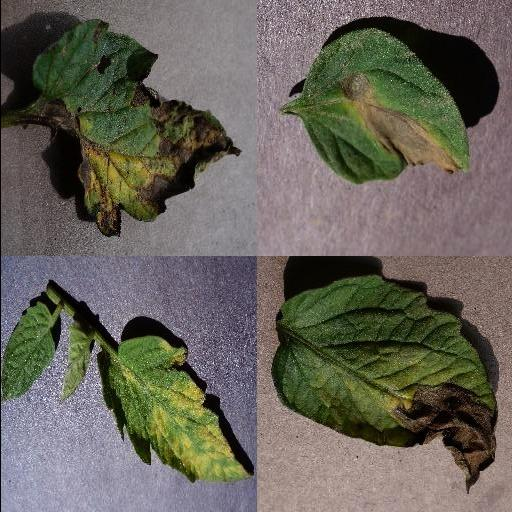Early Blight: (31, 23, 243, 238), (297, 30, 469, 186)
Healthy: (0, 300, 58, 402)
Late Blight: (270, 276, 498, 494)
Leaf Mold: (94, 336, 254, 484)
